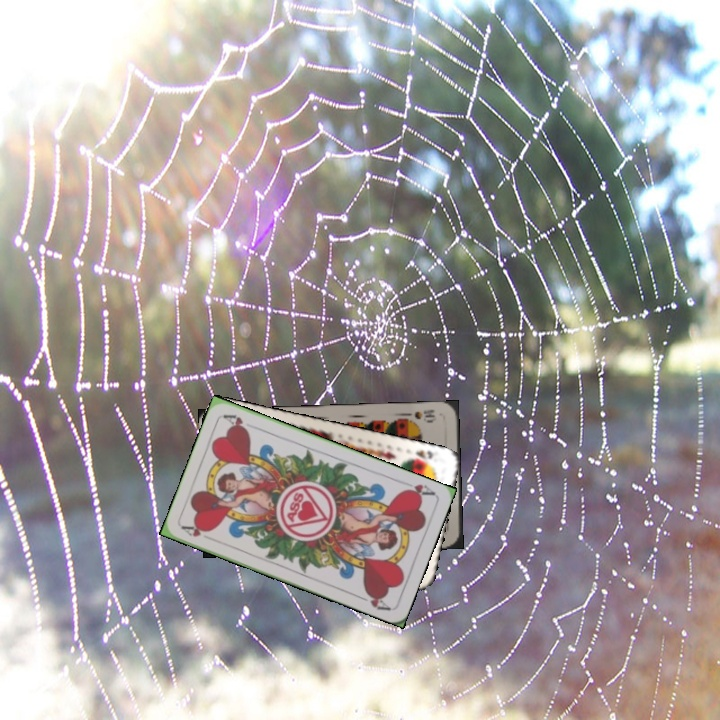HA: (178, 521, 218, 544), (398, 477, 437, 500)
S10: (402, 405, 437, 422)
SK: (403, 447, 435, 467)
